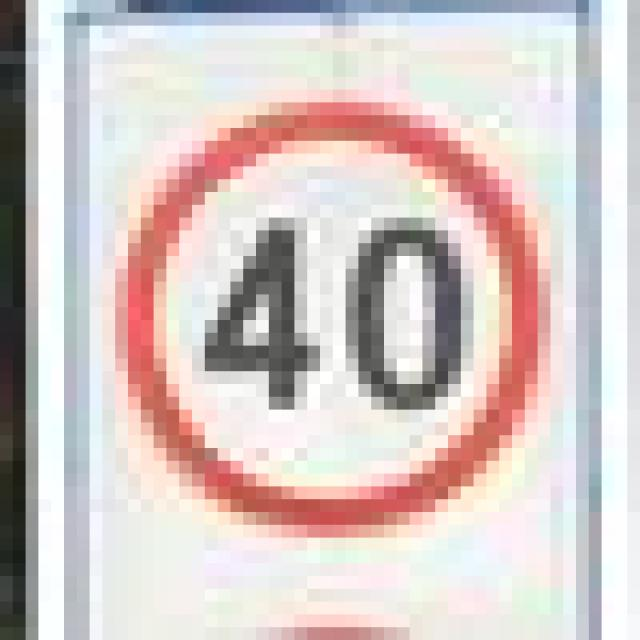falling_rocks: (115, 90, 550, 512)
